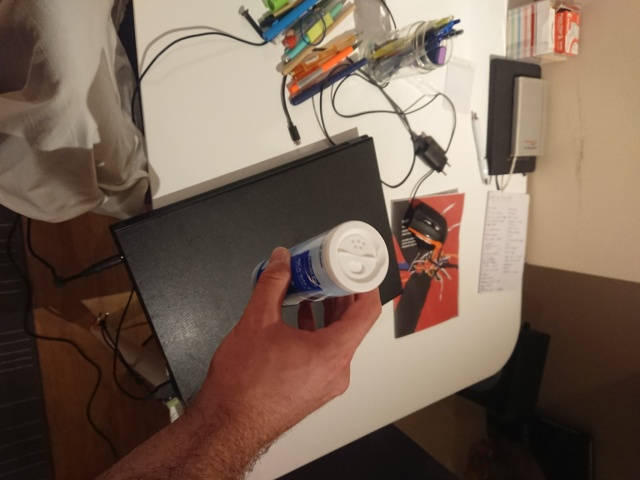Solana Pag Fine Sea Salt 250g: (248, 218, 392, 314)
